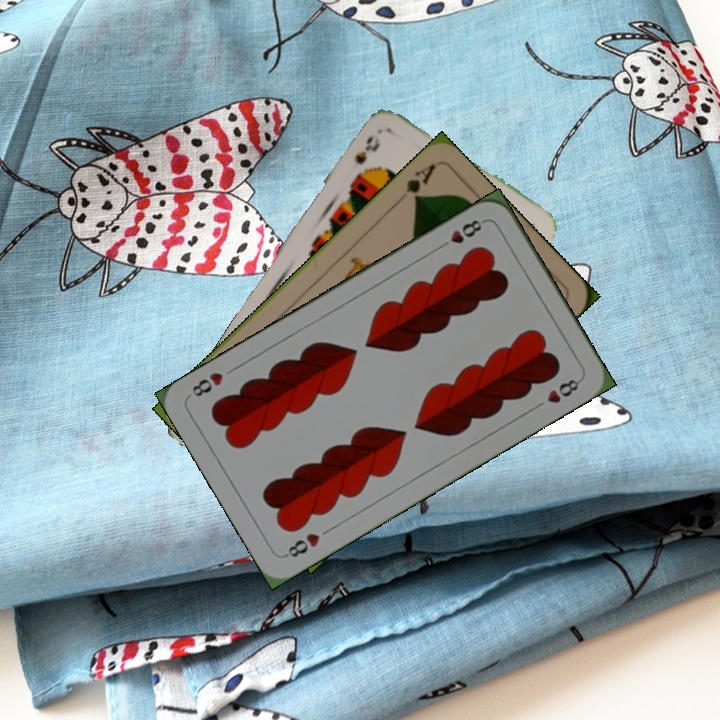GA: (401, 160, 439, 204)
H8: (434, 215, 488, 252), (280, 529, 323, 560)
S9: (350, 132, 383, 181)
